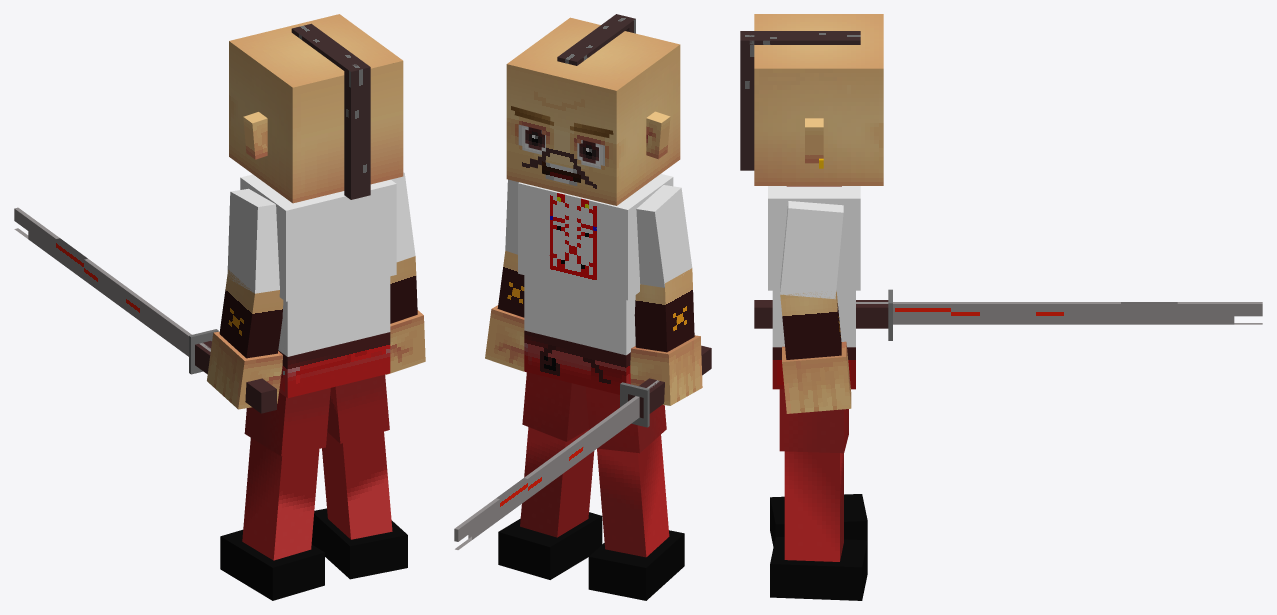
File: kozak_hytale.glb
The picture shows the model from 3 angles, left to right: view 1: azimuth 30°, elevation 25°; view 2: azimuth 150°, elevation 25°; view 3: azimuth 270°, elevation 25°; orthographic projection.
Visible parts, largest first — view 1: 880d99b7-62a5-61ec-c2a0-0c45893b5ff7_4, 1a862277-d958-d4ee-b10e-b40b022ea1c1_2, a14e07d4-54f2-8322-af08-02c279f8c41b_39, 661bab83-84cc-0162-aa13-d2778a3598bc_1, 4ed1c226-2ccf-e84a-0837-9ec4fbabfc0f_33, 17c36ee1-9825-8a0e-69ba-ee7b59ad4d08_22, efa5b09c-e9bc-db5e-8833-89f3a369094b_0, 8cacbb4a-6593-8fc6-425f-3206e595c4d5_19, f08f0bf5-2a93-e5a9-eefb-8cafde6ebc3f_40, 264fe7be-97a7-5435-7450-9049bc7ecdfa_38, 1a2022ec-fbb3-be34-2937-f07b74abcf13_23, 36c05801-c189-d44a-29a1-7aba836375bc_34 (+9 smaller); view 2: 880d99b7-62a5-61ec-c2a0-0c45893b5ff7_4, 1a862277-d958-d4ee-b10e-b40b022ea1c1_2, a14e07d4-54f2-8322-af08-02c279f8c41b_39, 661bab83-84cc-0162-aa13-d2778a3598bc_1, 4ed1c226-2ccf-e84a-0837-9ec4fbabfc0f_33, 8cacbb4a-6593-8fc6-425f-3206e595c4d5_19, 17c36ee1-9825-8a0e-69ba-ee7b59ad4d08_22, 36c05801-c189-d44a-29a1-7aba836375bc_34, efa5b09c-e9bc-db5e-8833-89f3a369094b_0, f08f0bf5-2a93-e5a9-eefb-8cafde6ebc3f_40, 1a2022ec-fbb3-be34-2937-f07b74abcf13_23, 2a0a49f0-1233-4bd3-642a-b46cb3ce77d0_32 (+14 smaller); view 3: 880d99b7-62a5-61ec-c2a0-0c45893b5ff7_4, 8cacbb4a-6593-8fc6-425f-3206e595c4d5_19, 4ed1c226-2ccf-e84a-0837-9ec4fbabfc0f_33, 1da32350-e16e-2268-eda1-2cd8ed4c8bfa_25, 1a862277-d958-d4ee-b10e-b40b022ea1c1_2, 36c05801-c189-d44a-29a1-7aba836375bc_34, 12684441-ea28-346f-a041-fdebdbb32f89_28, c558fe60-051d-f0d1-1249-8a3697b9a607_26, 2a0a49f0-1233-4bd3-642a-b46cb3ce77d0_32, 5b78b95a-465c-5a7a-04cc-b4cbeb3c2c55_15, f08f0bf5-2a93-e5a9-eefb-8cafde6ebc3f_40, 661bab83-84cc-0162-aa13-d2778a3598bc_1 (+4 smaller).
Boxes of the visible parts, x1,y1,x2,y2 form: 880d99b7-62a5-61ec-c2a0-0c45893b5ff7_4: (229, 14, 403, 203); 1a862277-d958-d4ee-b10e-b40b022ea1c1_2: (240, 174, 396, 301); a14e07d4-54f2-8322-af08-02c279f8c41b_39: (242, 438, 319, 560); 661bab83-84cc-0162-aa13-d2778a3598bc_1: (278, 276, 390, 356); 4ed1c226-2ccf-e84a-0837-9ec4fbabfc0f_33: (322, 431, 392, 539); 17c36ee1-9825-8a0e-69ba-ee7b59ad4d08_22: (227, 188, 279, 293); efa5b09c-e9bc-db5e-8833-89f3a369094b_0: (278, 332, 390, 398); 8cacbb4a-6593-8fc6-425f-3206e595c4d5_19: (14, 207, 210, 356); f08f0bf5-2a93-e5a9-eefb-8cafde6ebc3f_40: (220, 529, 324, 600); 264fe7be-97a7-5435-7450-9049bc7ecdfa_38: (244, 388, 330, 456); 1a2022ec-fbb3-be34-2937-f07b74abcf13_23: (219, 269, 283, 358); 36c05801-c189-d44a-29a1-7aba836375bc_34: (311, 508, 407, 579); 880d99b7-62a5-61ec-c2a0-0c45893b5ff7_4: (506, 17, 680, 205); 1a862277-d958-d4ee-b10e-b40b022ea1c1_2: (518, 174, 673, 300); a14e07d4-54f2-8322-af08-02c279f8c41b_39: (597, 435, 669, 557); 661bab83-84cc-0162-aa13-d2778a3598bc_1: (524, 275, 635, 355); 4ed1c226-2ccf-e84a-0837-9ec4fbabfc0f_33: (520, 427, 594, 537); 8cacbb4a-6593-8fc6-425f-3206e595c4d5_19: (454, 380, 659, 549); 17c36ee1-9825-8a0e-69ba-ee7b59ad4d08_22: (636, 185, 692, 287); 36c05801-c189-d44a-29a1-7aba836375bc_34: (498, 512, 602, 579); efa5b09c-e9bc-db5e-8833-89f3a369094b_0: (524, 330, 630, 394); f08f0bf5-2a93-e5a9-eefb-8cafde6ebc3f_40: (588, 530, 684, 600); 1a2022ec-fbb3-be34-2937-f07b74abcf13_23: (634, 268, 694, 352); 2a0a49f0-1233-4bd3-642a-b46cb3ce77d0_32: (522, 372, 588, 441); 880d99b7-62a5-61ec-c2a0-0c45893b5ff7_4: (754, 14, 883, 185); 8cacbb4a-6593-8fc6-425f-3206e595c4d5_19: (856, 302, 1262, 324); 4ed1c226-2ccf-e84a-0837-9ec4fbabfc0f_33: (784, 451, 843, 561); 1da32350-e16e-2268-eda1-2cd8ed4c8bfa_25: (780, 201, 843, 299); 1a862277-d958-d4ee-b10e-b40b022ea1c1_2: (768, 186, 860, 290); 36c05801-c189-d44a-29a1-7aba836375bc_34: (770, 537, 867, 600); 12684441-ea28-346f-a041-fdebdbb32f89_28: (782, 341, 851, 413); c558fe60-051d-f0d1-1249-8a3697b9a607_26: (780, 291, 841, 359); 2a0a49f0-1233-4bd3-642a-b46cb3ce77d0_32: (779, 389, 848, 453); 5b78b95a-465c-5a7a-04cc-b4cbeb3c2c55_15: (740, 31, 754, 170); f08f0bf5-2a93-e5a9-eefb-8cafde6ebc3f_40: (770, 494, 867, 546); 661bab83-84cc-0162-aa13-d2778a3598bc_1: (772, 290, 855, 347).
Size of the model in its own units: 2.97 by 7.93 by 7.06.
Materials: 6 (6 with a texture image).
